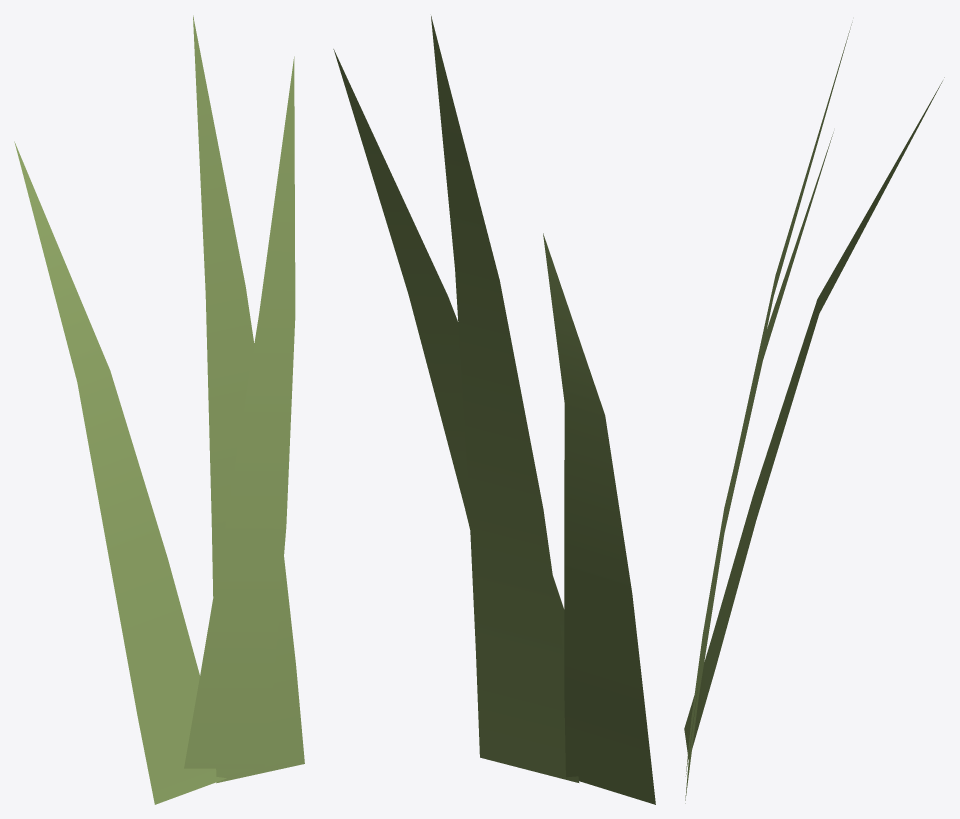
Rendered from SM_GrassClump_04.fbx.
3 views of the same model, side by side, from view 1: azimuth 30°, elevation 25°; view 2: azimuth 150°, elevation 25°; view 3: azimuth 270°, elevation 25° (orthographic). The views are drawn at different scales.
Visible parts, largest first — view 1: SM_GrassClump_04; view 2: SM_GrassClump_04; view 3: SM_GrassClump_04.
Boxes of the visible parts, x1=… form: SM_GrassClump_04: x1=14, y1=15, x2=304, y2=804; SM_GrassClump_04: x1=333, y1=16, x2=655, y2=804; SM_GrassClump_04: x1=684, y1=22, x2=944, y2=803.
Size of the model in its own units: 1.51 by 4.44 by 1.36.
